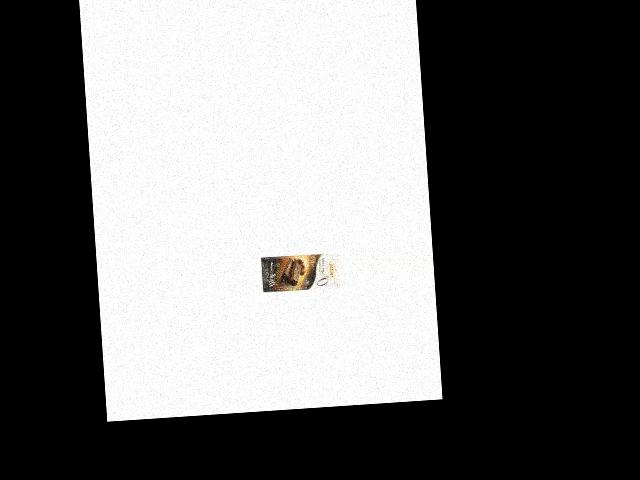chocolate: (260, 251, 340, 295)
